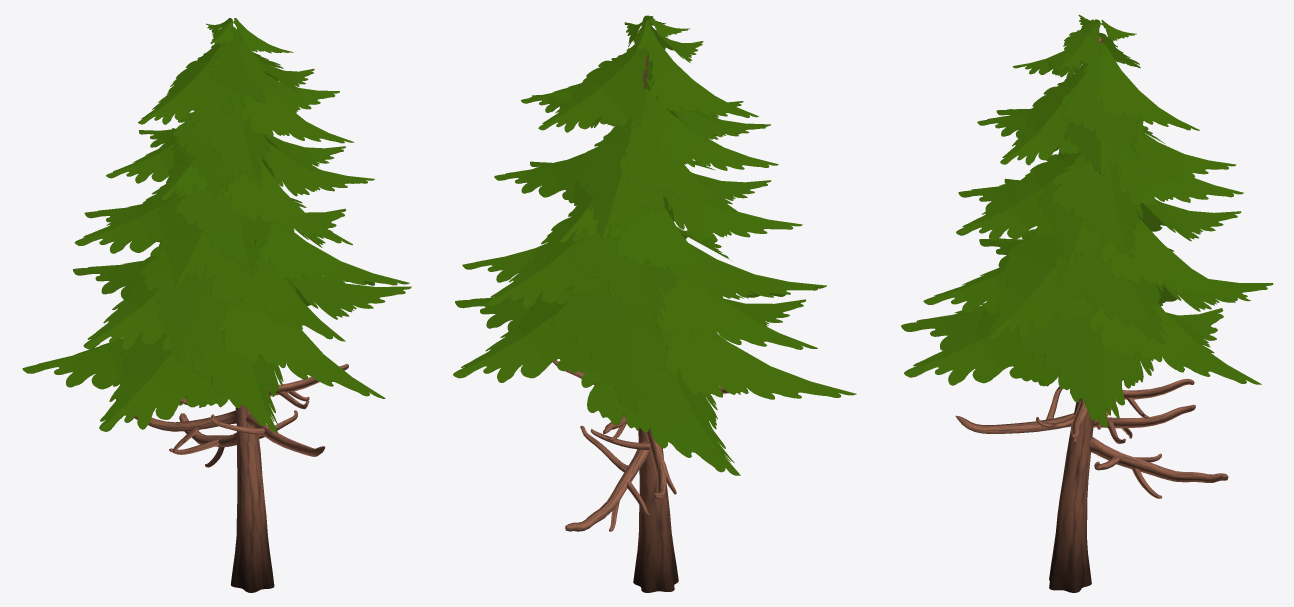
The model's file is Pine_1.glb.
3 views of the same model, side by side, from view 1: azimuth 30°, elevation 25°; view 2: azimuth 150°, elevation 25°; view 3: azimuth 270°, elevation 25° (orthographic). The views are drawn at different scales.
Size of the model in its own units: 4.94 by 7.32 by 4.54.
2 materials, 2 textured.
